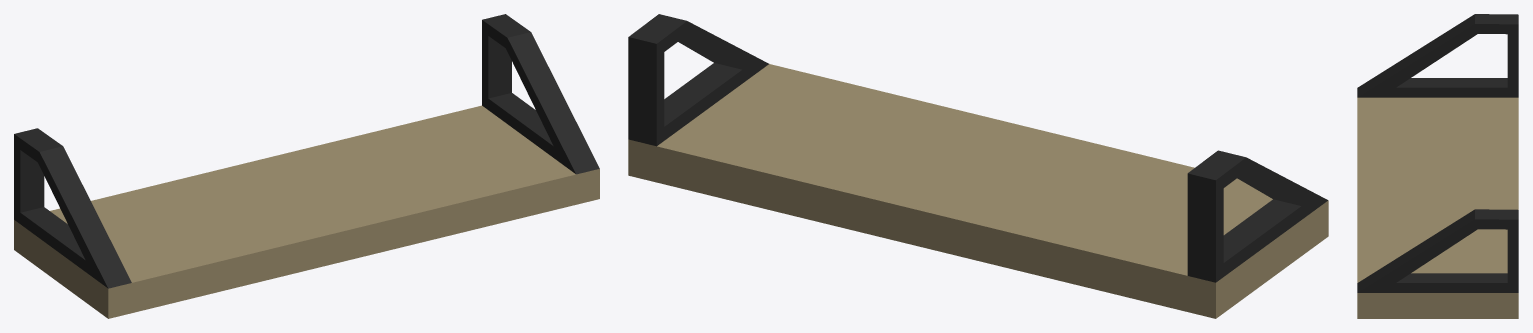
File: Pulka2.fbx
3 views of the same model, side by side, from view 1: azimuth 30°, elevation 25°; view 2: azimuth 150°, elevation 25°; view 3: azimuth 270°, elevation 25° (orthographic). The views are drawn at different scales.
Visible parts, largest first — view 1: Cube.012, Cube.013; view 2: Cube.012, Cube.013; view 3: Cube.012, Cube.013.
Part boxes in pixels (bbox=[...]): Cube.012: bbox=[14, 105, 599, 318]; Cube.013: bbox=[14, 14, 599, 288]; Cube.012: bbox=[628, 64, 1328, 318]; Cube.013: bbox=[628, 14, 1327, 282]; Cube.012: bbox=[1357, 97, 1518, 318]; Cube.013: bbox=[1357, 14, 1518, 292].
Size of the model in its own units: 78.26 by 17.74 by 25.99.
